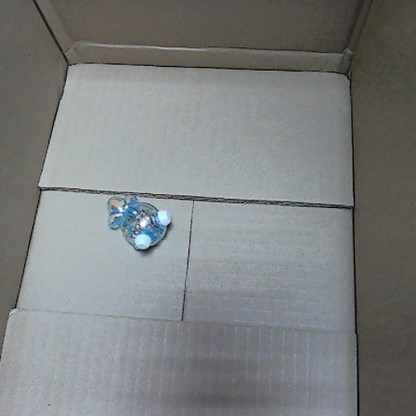bluefish: (101, 189, 172, 250)
